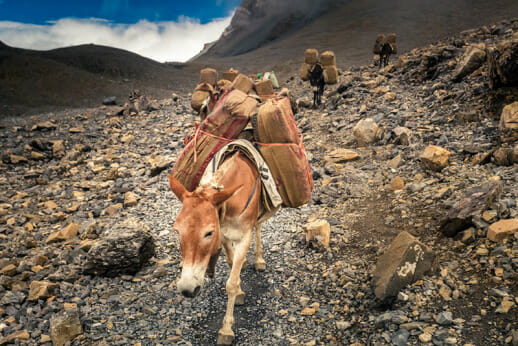equine: (148, 87, 333, 346), (291, 44, 344, 115), (369, 30, 403, 74)
